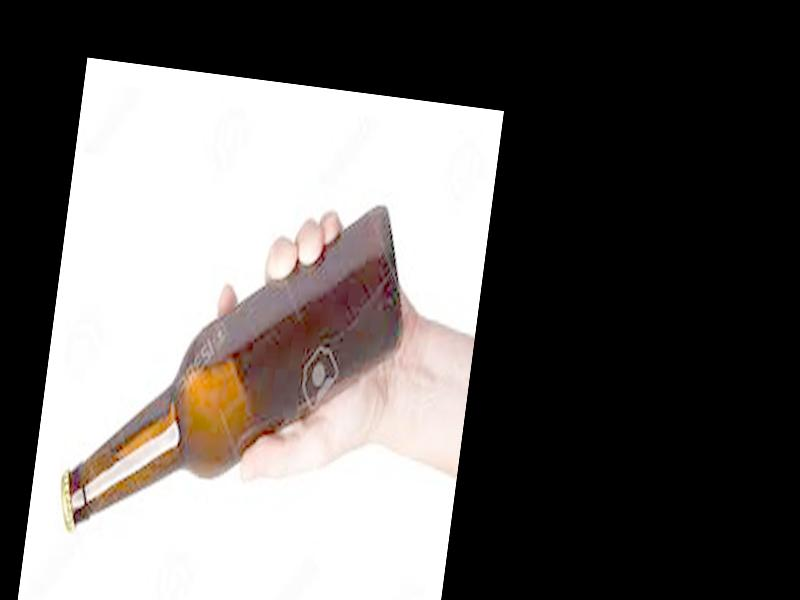Beer: (55, 173, 416, 572)
